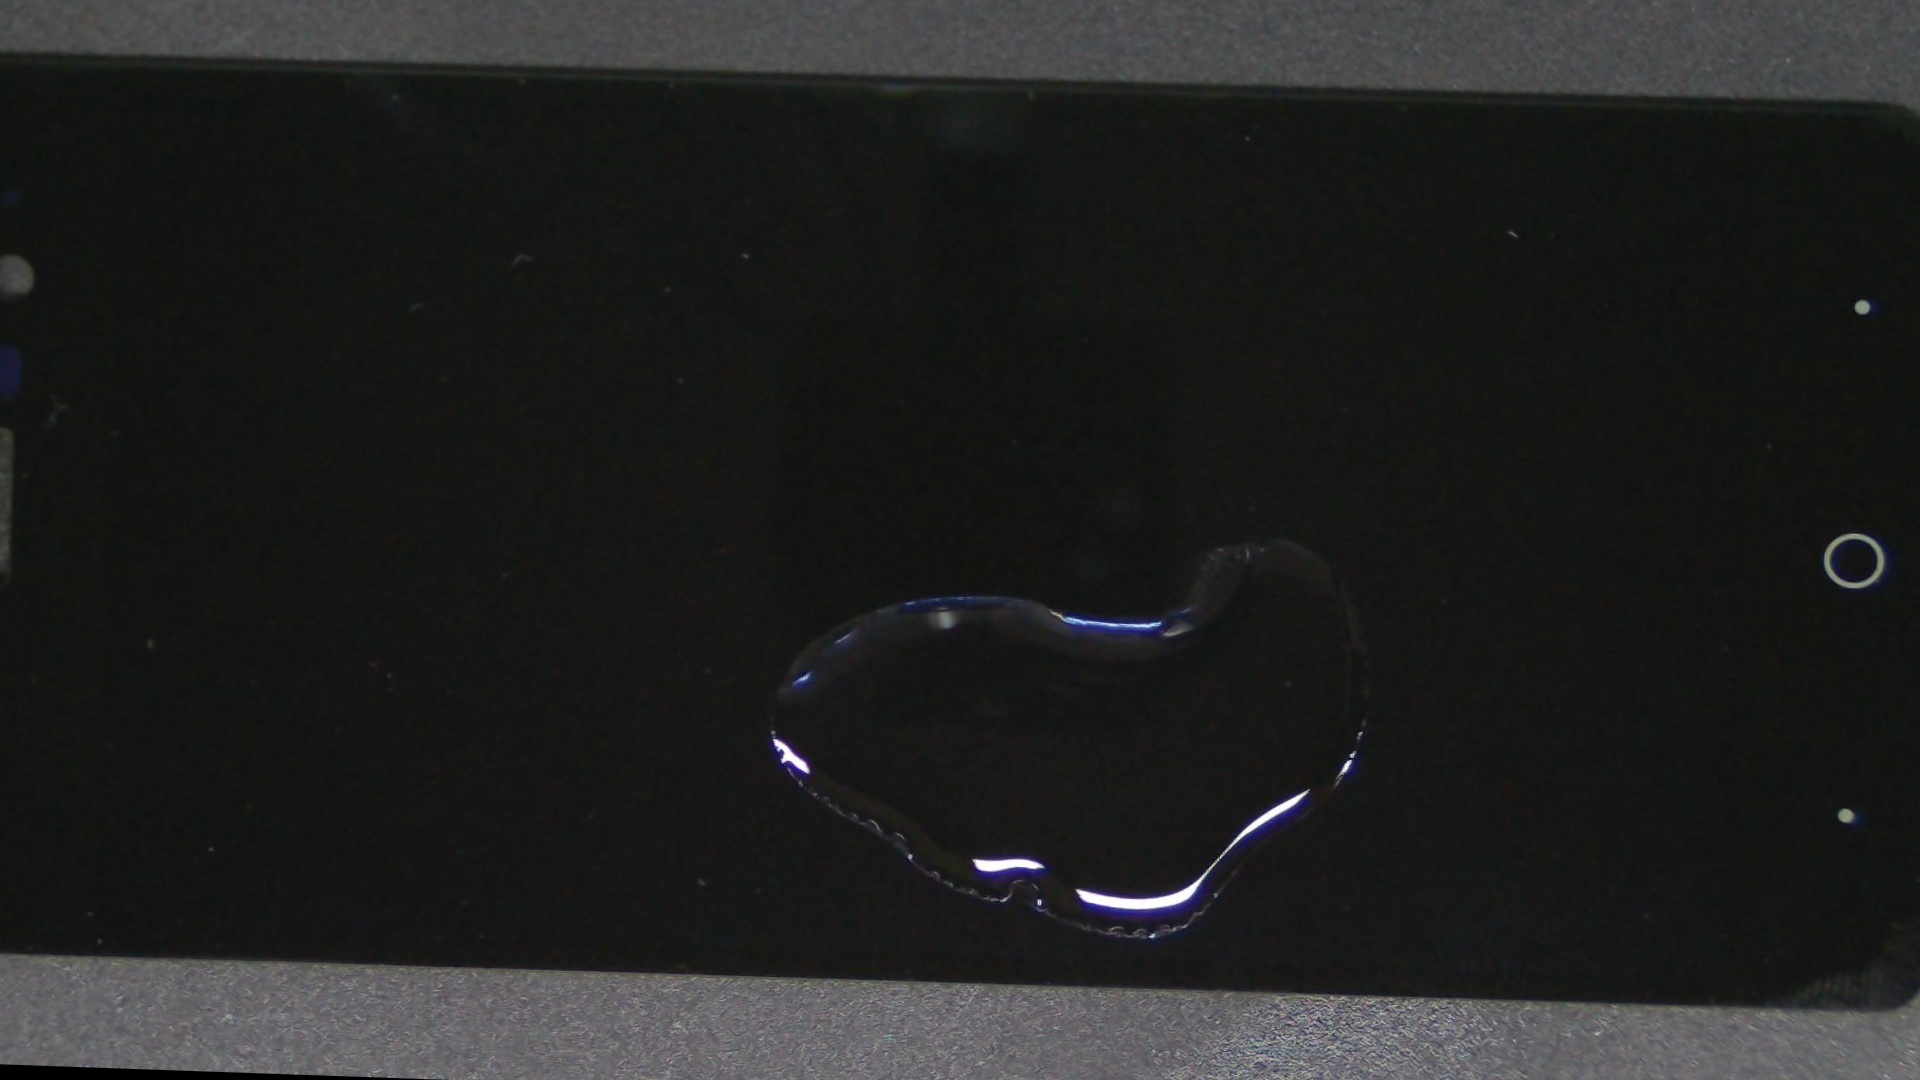oil: (521, 216, 1920, 862)
